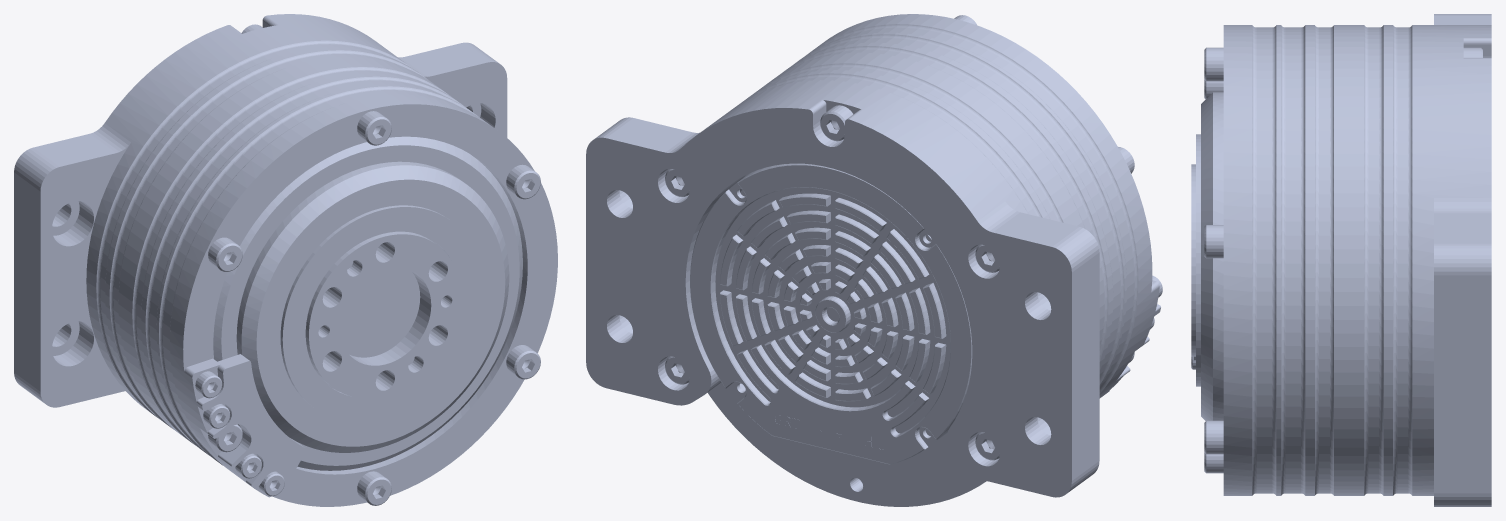
The model's file is left_arm_base_link.dae.
3 renders of one model, left to right at view 1: azimuth 30°, elevation 25°; view 2: azimuth 150°, elevation 25°; view 3: azimuth 270°, elevation 25°, orthographic. The views are drawn at different scales.
Visible parts, largest first — view 1: node_61e87d6b_f9f8_4a64_ba30_e82896eb4884_mesh0; view 2: node_61e87d6b_f9f8_4a64_ba30_e82896eb4884_mesh0; view 3: node_61e87d6b_f9f8_4a64_ba30_e82896eb4884_mesh0.
Boxes of the visible parts, x1,y1,x2,y2 form: node_61e87d6b_f9f8_4a64_ba30_e82896eb4884_mesh0: [14, 14, 557, 506]; node_61e87d6b_f9f8_4a64_ba30_e82896eb4884_mesh0: [586, 14, 1162, 506]; node_61e87d6b_f9f8_4a64_ba30_e82896eb4884_mesh0: [1191, 14, 1491, 506].
Size of the model in its own units: 122 by 62.5 by 98.
